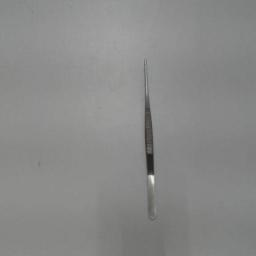Gillies Toothed Dissector: (140, 54, 160, 224)
